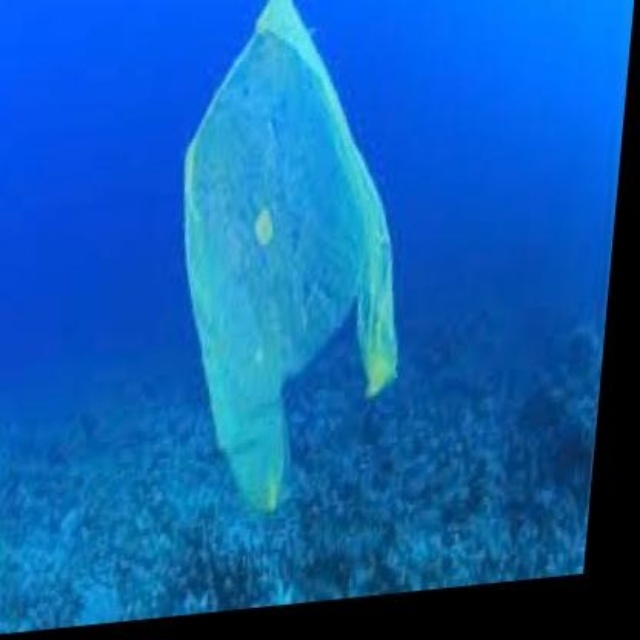trash: (185, 0, 395, 511)
